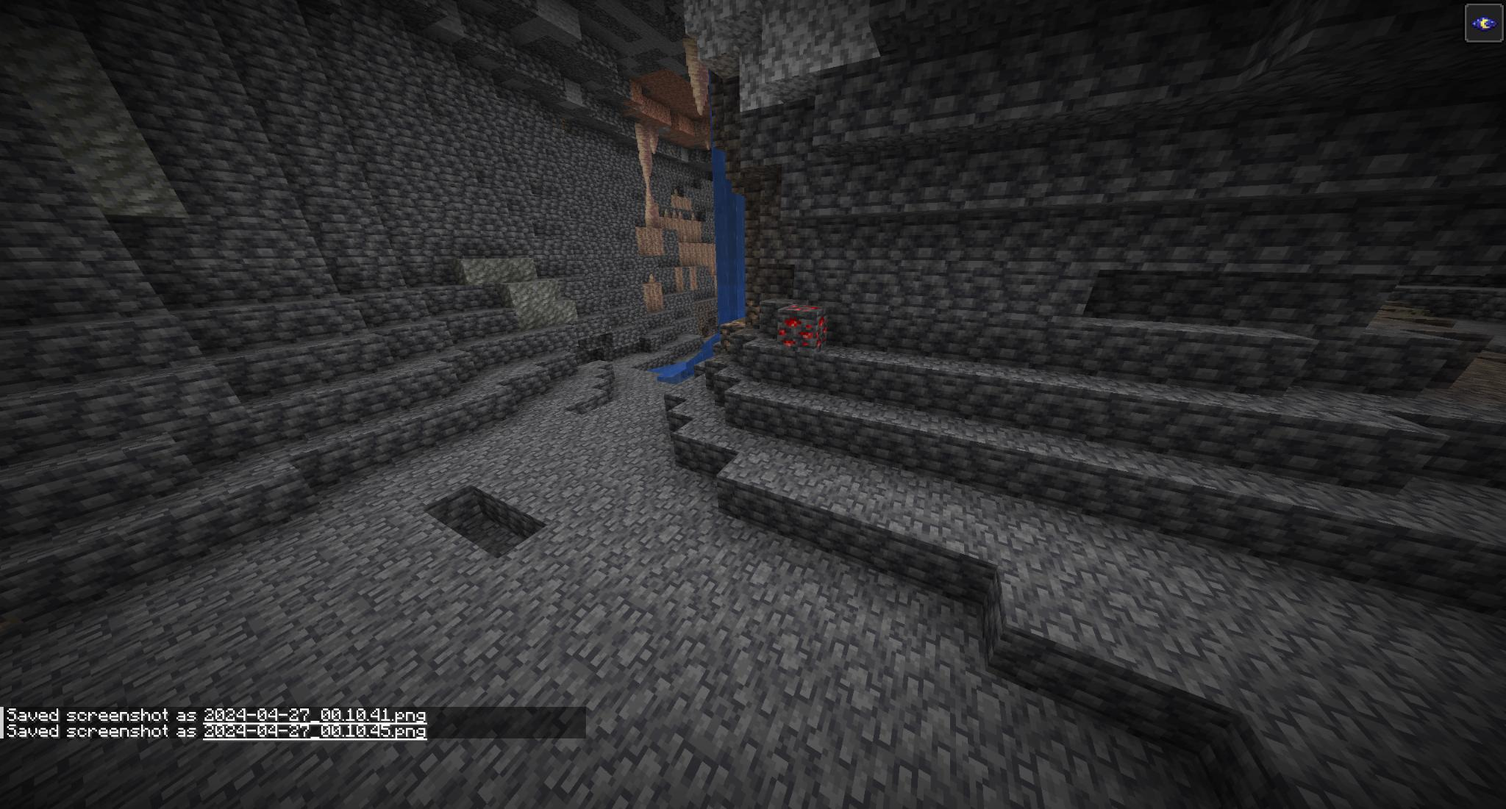redstone ore: (778, 302, 828, 344)
